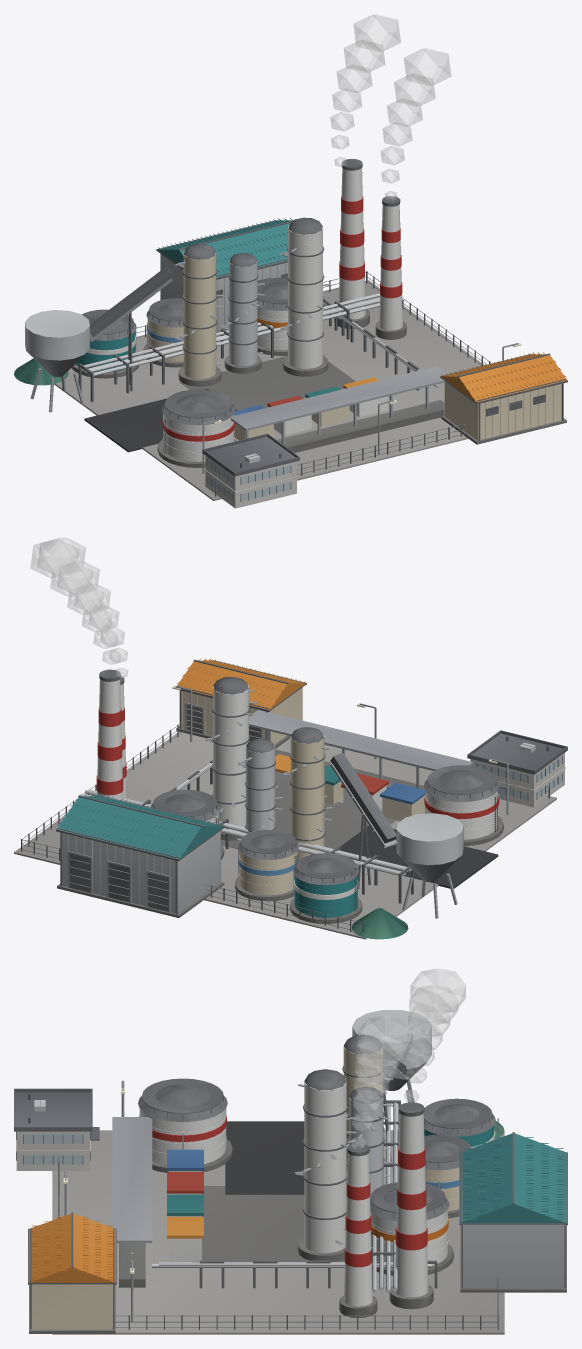
Rendered from Refinery_P2.fbx.
3 renders of one model, top to bottom at view 1: azimuth 30°, elevation 25°; view 2: azimuth 150°, elevation 25°; view 3: azimuth 270°, elevation 25°, orthographic. The views are drawn at different scales.
Parts seen in each view (by area): view 1: Refinery.Pad, Refinery.Shed, Refinery.Bay, Refinery.Col2, Refinery.Office, Refinery.Hall, Refinery.Col0, Refinery.Tank0, Refinery.Smoke0, Refinery.Smoke1, Refinery.Intake, Refinery.Stack0 (+11 smaller); view 2: Refinery.Pad, Refinery.Hall, Refinery.Shed, Refinery.Col2, Refinery.Office, Refinery.Tank0, Refinery.Tank1, Refinery.Smoke0, Refinery.Col0, Refinery.Bay, Refinery.Intake, Refinery.Tank2 (+10 smaller); view 3: Refinery.Pad, Refinery.Hall, Refinery.Shed, Refinery.Col2, Refinery.Office, Refinery.Tank0, Refinery.Stack0, Refinery.Bay, Refinery.Stack1, Refinery.Smoke0, Refinery.Smoke1, Refinery.Utils (+10 smaller).
Part boxes in pixels (x1,y1,x2,y2): Refinery.Pad: [54, 280, 484, 500]; Refinery.Shed: [440, 352, 567, 444]; Refinery.Bay: [231, 366, 463, 452]; Refinery.Col2: [280, 217, 330, 376]; Refinery.Office: [202, 433, 299, 508]; Refinery.Hall: [156, 218, 293, 332]; Refinery.Col0: [175, 243, 223, 386]; Refinery.Tank0: [157, 389, 236, 467]; Refinery.Smoke0: [330, 14, 400, 166]; Refinery.Smoke1: [381, 48, 451, 200]; Refinery.Intake: [25, 310, 89, 412]; Refinery.Stack0: [334, 159, 369, 328]; Refinery.Pad: [14, 731, 556, 939]; Refinery.Hall: [56, 794, 225, 917]; Refinery.Shed: [176, 658, 306, 748]; Refinery.Col2: [204, 677, 257, 840]; Refinery.Office: [467, 730, 567, 807]; Refinery.Tank0: [424, 765, 503, 845]; Refinery.Tank1: [290, 853, 362, 923]; Refinery.Smoke0: [37, 537, 127, 677]; Refinery.Col0: [282, 727, 332, 860]; Refinery.Bay: [249, 710, 472, 789]; Refinery.Intake: [396, 813, 463, 918]; Refinery.Tank2: [235, 830, 298, 901]; Refinery.Pad: [52, 1121, 504, 1334]; Refinery.Hall: [459, 1132, 567, 1292]; Refinery.Shed: [28, 1212, 116, 1333]; Refinery.Col2: [294, 1069, 356, 1262]; Refinery.Office: [14, 1088, 99, 1170]; Refinery.Tank0: [138, 1078, 232, 1172]; Refinery.Stack0: [389, 1102, 433, 1309]; Refinery.Bay: [112, 1117, 152, 1289]; Refinery.Stack1: [339, 1143, 377, 1317]; Refinery.Smoke0: [404, 968, 465, 1101]; Refinery.Smoke1: [351, 1016, 412, 1148]; Refinery.Utils: [167, 1149, 203, 1261].
Size of the model in its own units: 8771 by 5886 by 8327.
